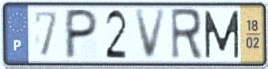2: (103, 9, 130, 61)
7: (33, 10, 60, 60)
M: (203, 9, 242, 61)
P: (63, 7, 101, 62)
R: (169, 7, 204, 63)
V: (133, 7, 170, 62)
